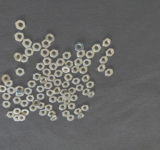nut: (15, 19, 26, 31), (14, 31, 24, 42), (32, 41, 42, 52), (22, 38, 32, 48), (1, 74, 11, 84), (16, 67, 25, 77), (50, 48, 59, 58), (42, 39, 51, 49), (103, 38, 112, 48), (75, 42, 84, 52), (85, 50, 95, 59), (62, 51, 72, 60), (79, 66, 89, 75), (2, 92, 12, 101), (7, 86, 17, 95), (44, 81, 53, 91), (64, 73, 74, 82), (36, 101, 46, 110), (72, 76, 81, 86), (36, 62, 45, 71), (25, 47, 34, 56), (92, 43, 101, 52), (106, 48, 115, 57), (77, 49, 86, 58), (75, 57, 84, 66), (71, 65, 80, 74), (40, 76, 49, 85), (7, 86, 16, 95), (74, 107, 83, 116), (53, 87, 62, 96), (82, 74, 91, 83), (15, 52, 23, 62), (2, 101, 12, 109), (46, 33, 54, 43), (42, 57, 52, 65), (32, 73, 42, 81), (57, 57, 65, 67), (54, 70, 64, 78), (36, 93, 46, 101), (41, 49, 50, 57), (21, 54, 29, 63), (106, 68, 114, 77), (98, 64, 107, 72), (99, 56, 108, 64), (86, 81, 95, 89), (83, 59, 92, 67), (43, 69, 52, 77), (50, 62, 58, 71), (65, 60, 74, 68), (62, 66, 71, 74), (48, 74, 56, 83), (5, 79, 14, 87), (16, 85, 24, 94), (13, 97, 22, 105), (13, 115, 22, 123), (20, 100, 29, 108), (36, 85, 45, 93), (53, 79, 62, 87), (62, 81, 71, 89), (37, 93, 46, 101), (39, 109, 48, 117), (81, 105, 90, 113), (59, 104, 68, 112), (49, 96, 58, 104), (63, 92, 72, 100), (76, 84, 85, 92), (82, 89, 91, 97), (47, 111, 57, 118), (45, 90, 55, 97), (15, 91, 26, 97), (7, 111, 15, 119), (29, 105, 37, 113), (33, 99, 41, 107), (78, 113, 86, 121), (24, 88, 33, 95), (21, 109, 30, 116), (26, 95, 35, 102), (45, 105, 54, 112), (58, 96, 65, 105), (70, 95, 79, 102), (68, 103, 77, 110), (67, 115, 75, 122), (0, 85, 7, 93), (28, 81, 36, 88), (18, 115, 26, 122), (13, 108, 21, 115), (50, 115, 58, 122), (63, 111, 71, 118), (60, 89, 68, 96), (89, 91, 96, 99), (69, 87, 76, 94), (65, 97, 70, 104)
